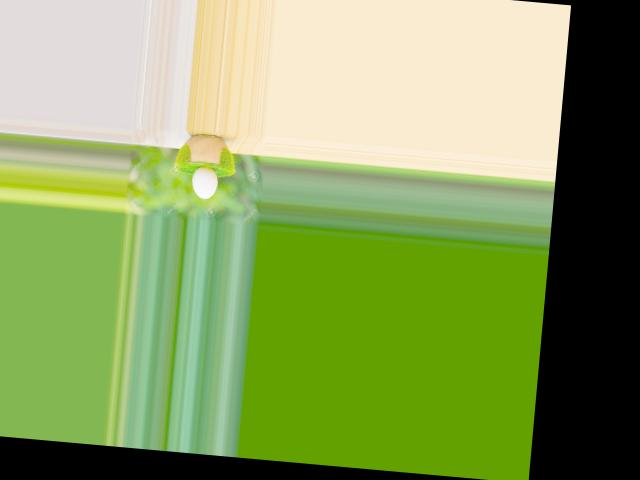egg: (189, 165, 218, 199)
